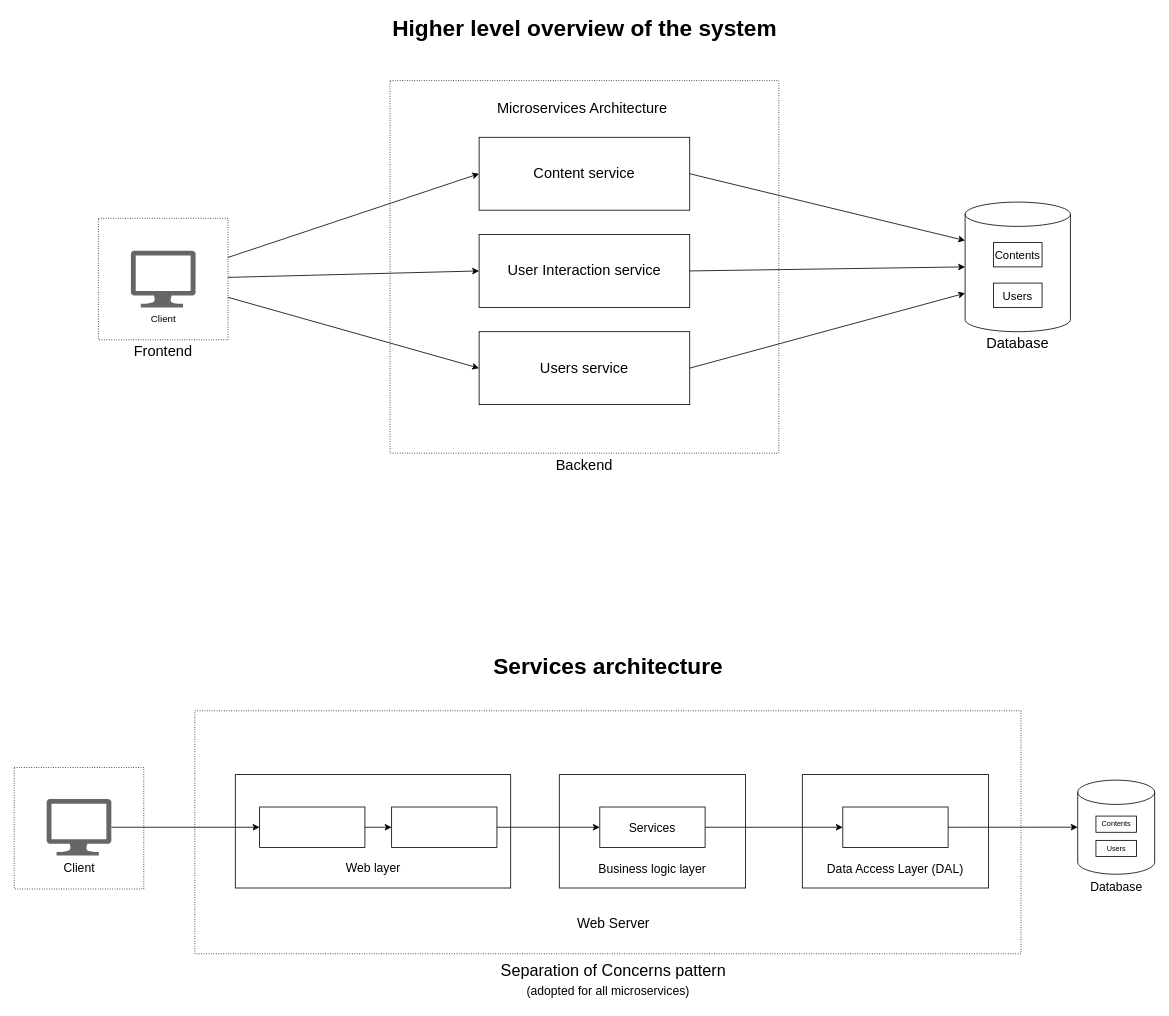
Image size: 1169x1016. Some labels were removed from this diagram. Each missing label, with the box of its shape:
Controller: (391, 806, 497, 848)
Data accessing components: (842, 806, 948, 848)
Route Handler: (259, 806, 365, 848)
